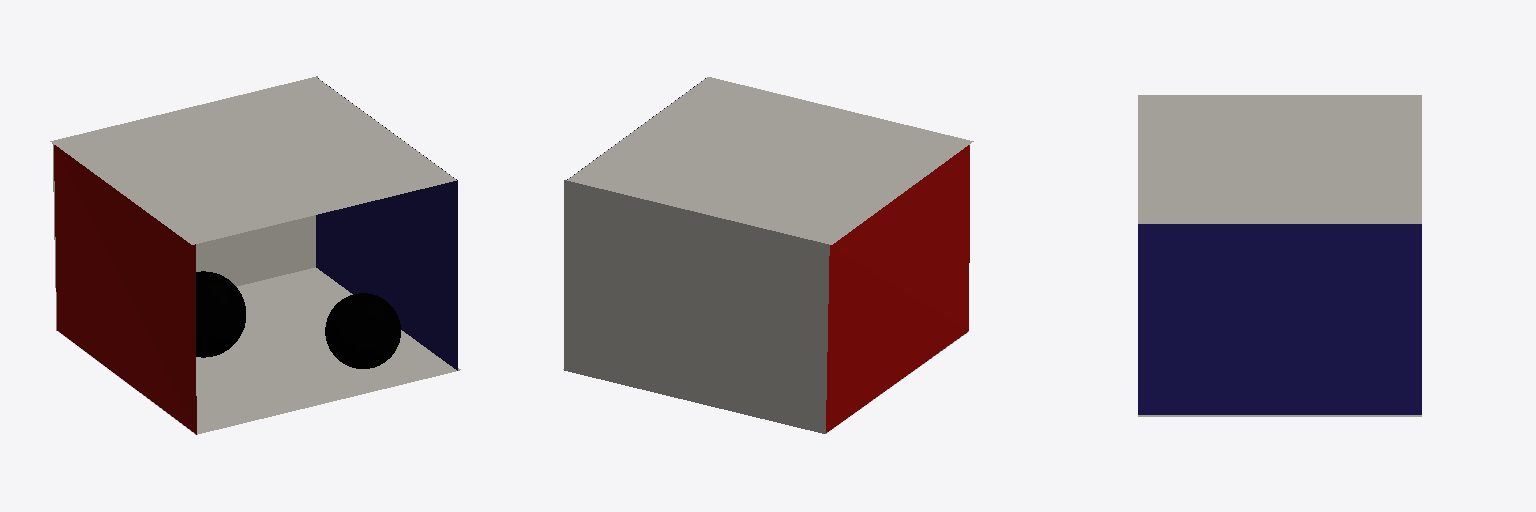
The model's file is tree_scene1_box1.obj.
The picture shows the model from 3 angles: view 1: azimuth 30°, elevation 25°; view 2: azimuth 150°, elevation 25°; view 3: azimuth 270°, elevation 25°; orthographic projection.
Parts seen in each view (by area): view 1: CornellBox_Sphere:ceiling, CornellBox_Sphere:leftWall, CornellBox_Sphere:floor, CornellBox_Sphere:rightWall, CornellBox_Sphere:backWall, CornellBox_Sphere:rightSphere, CornellBox_Sphere:leftSphere; view 2: CornellBox_Sphere:backWall, CornellBox_Sphere:ceiling, CornellBox_Sphere:leftWall; view 3: CornellBox_Sphere:rightWall, CornellBox_Sphere:ceiling, CornellBox_Sphere:floor.
Boxes of the visible parts, x1,y1,x2,y2 form: CornellBox_Sphere:ceiling: [50, 77, 456, 244]; CornellBox_Sphere:leftWall: [54, 145, 196, 434]; CornellBox_Sphere:floor: [58, 267, 460, 434]; CornellBox_Sphere:rightWall: [316, 78, 457, 370]; CornellBox_Sphere:backWall: [52, 76, 317, 330]; CornellBox_Sphere:rightSphere: [325, 293, 400, 368]; CornellBox_Sphere:leftSphere: [196, 271, 245, 357]; CornellBox_Sphere:backWall: [564, 180, 829, 433]; CornellBox_Sphere:ceiling: [567, 77, 973, 244]; CornellBox_Sphere:leftWall: [826, 145, 969, 432]; CornellBox_Sphere:rightWall: [1138, 224, 1421, 414]; CornellBox_Sphere:ceiling: [1138, 95, 1421, 223]; CornellBox_Sphere:floor: [1138, 415, 1421, 416].
Size of the model in its own units: 2.35 by 1.59 by 2.14.